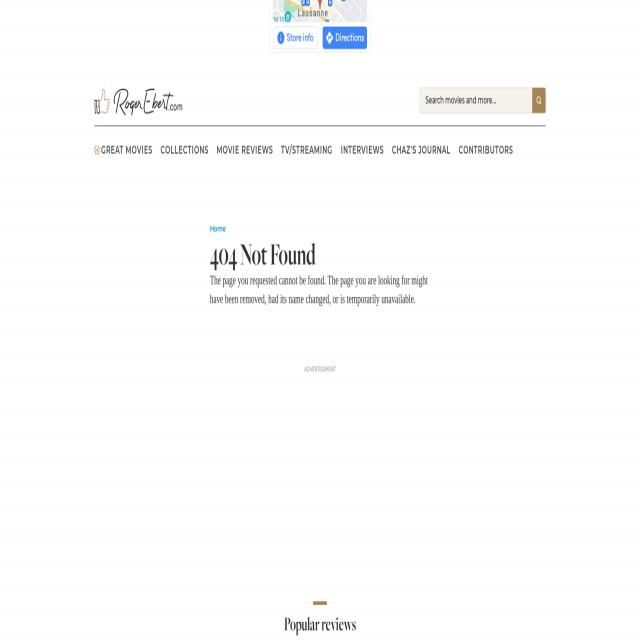button: (94, 87, 182, 116), (392, 136, 458, 164), (217, 136, 281, 164), (459, 136, 521, 164), (281, 136, 341, 164), (160, 136, 217, 164), (92, 138, 155, 163), (341, 136, 392, 164), (272, 26, 316, 50), (323, 26, 368, 48), (532, 88, 546, 112)
field: (420, 88, 532, 112)
